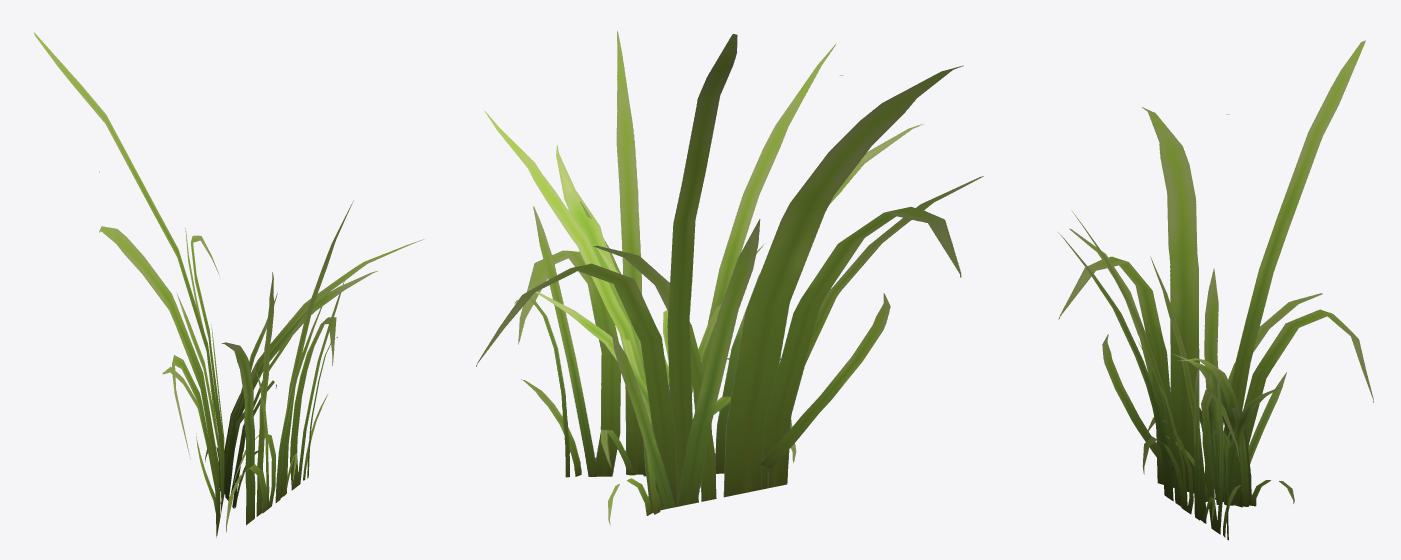
Rendered from Grass_2.fbx.
The picture shows the model from 3 angles, left to right: view 1: azimuth 30°, elevation 25°; view 2: azimuth 150°, elevation 25°; view 3: azimuth 270°, elevation 25°; orthographic projection. The views are drawn at different scales.
Parts seen in each view (by area): view 1: T_Low20; view 2: T_Low20; view 3: T_Low20.
Boxes of the visible parts, x1,y1,x2,y2 form: T_Low20: (34,32,424,537); T_Low20: (476,31,983,525); T_Low20: (1058,40,1373,540).
Size of the model in its own units: 50.63 by 61.99 by 45.29.
